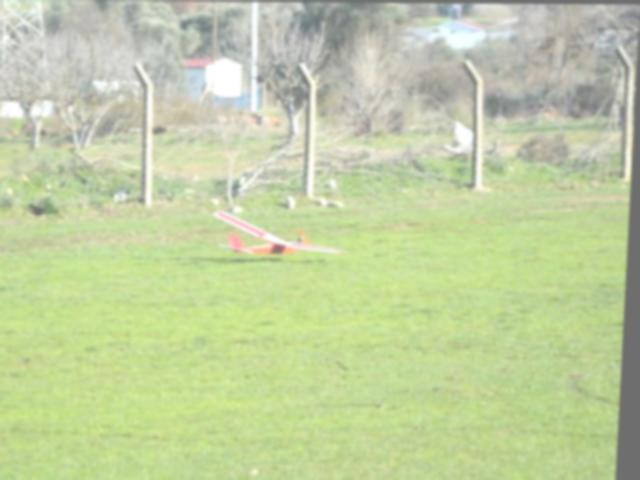iha: (202, 199, 364, 272)
